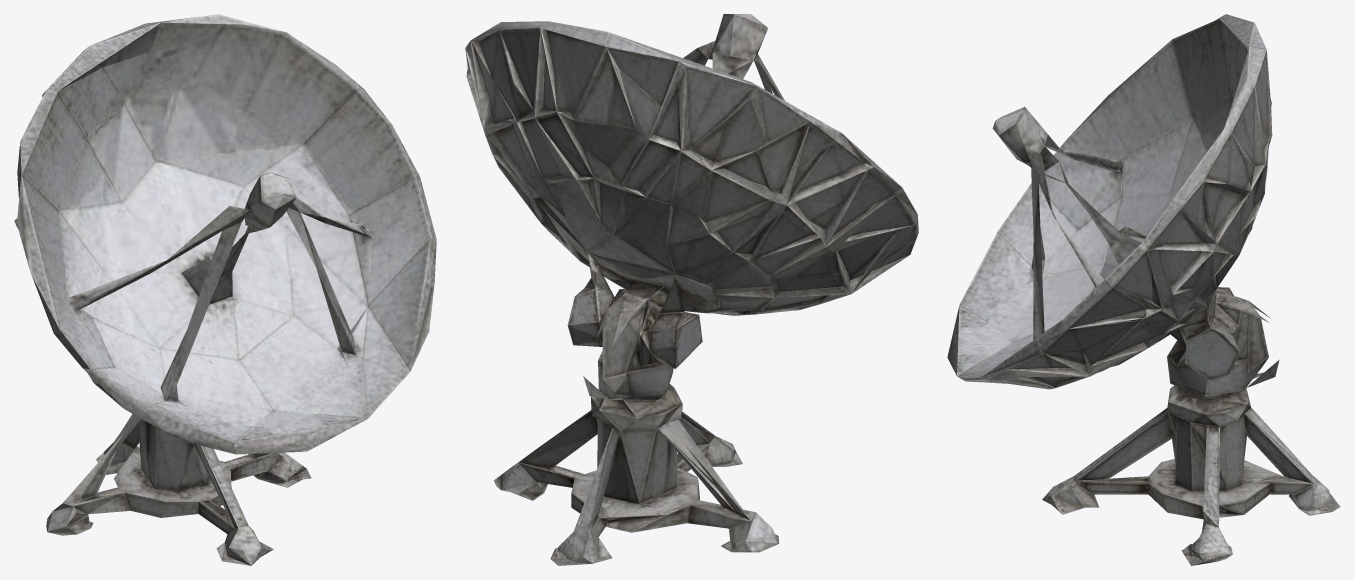
Rendered from comms_dish.glb.
3 views of the same model, side by side, from view 1: azimuth 30°, elevation 25°; view 2: azimuth 150°, elevation 25°; view 3: azimuth 270°, elevation 25° (orthographic). The views are drawn at different scales.
Parts seen in each view (by area): view 1: Mesh_0; view 2: Mesh_0; view 3: Mesh_0.
Part boxes in pixels (left/top/right/bottom): Mesh_0: left=14, top=14, right=436, bottom=565; Mesh_0: left=465, top=14, right=918, bottom=565; Mesh_0: left=947, top=14, right=1340, bottom=565.
Size of the model in its own units: 1.66 by 1.88 by 1.46.
1 material, 1 textured.
